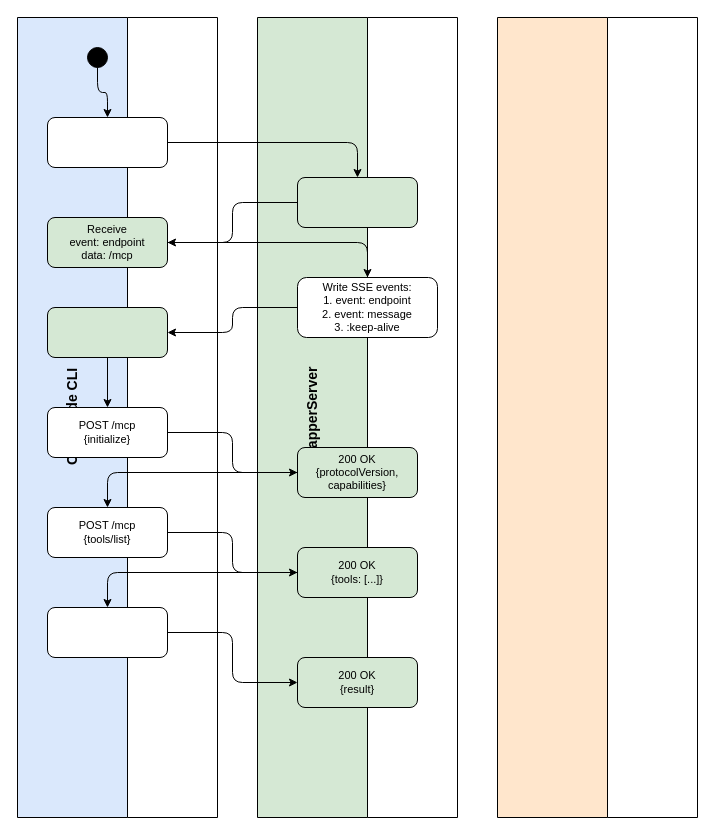
Image size: 715x835. Some labels were removed from this diagram. The shapes that lost their labels are listed below. From the top down, each one's box as (x1, y1, x2, y2) in pixels, then its label:
(46, 116, 168, 168): GET /mcp Open SSE
(296, 176, 418, 228): 200 OK text/event-stream
(46, 306, 168, 358): Receive event: message initialized
(496, 16, 698, 818): Backend REST API
(46, 606, 168, 658): POST /mcp {tools/call}
